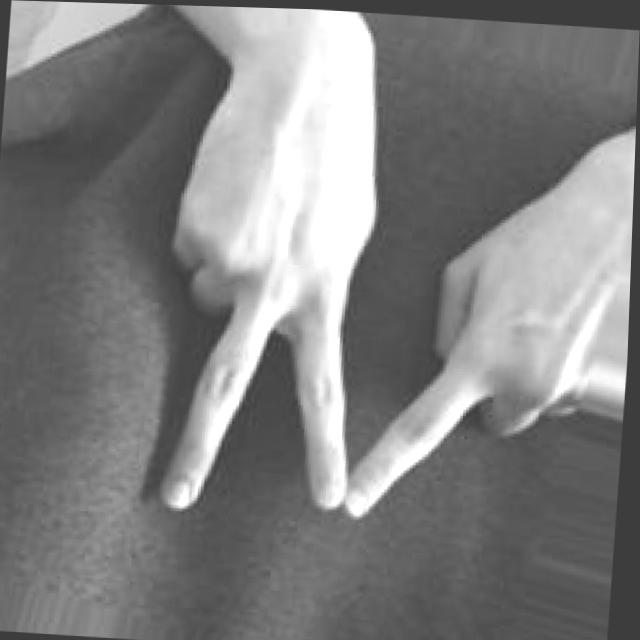N: (140, 58, 638, 539)
